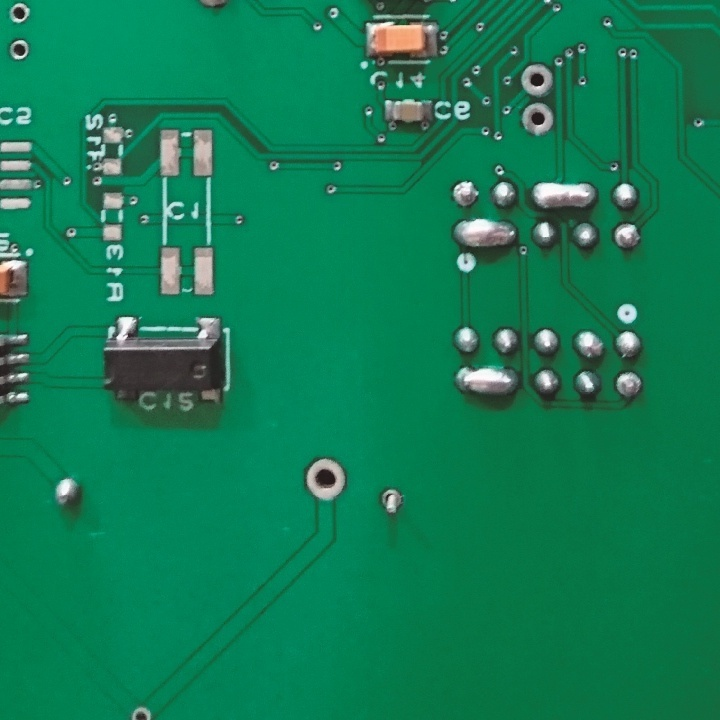F: (299, 452, 350, 503), (519, 62, 554, 99), (519, 99, 553, 137), (612, 370, 647, 403), (447, 178, 481, 208), (376, 485, 405, 519), (611, 219, 642, 250), (5, 1, 33, 30), (6, 38, 36, 62), (126, 701, 156, 720)
P: (527, 177, 599, 218), (452, 215, 521, 254), (456, 362, 519, 400)
